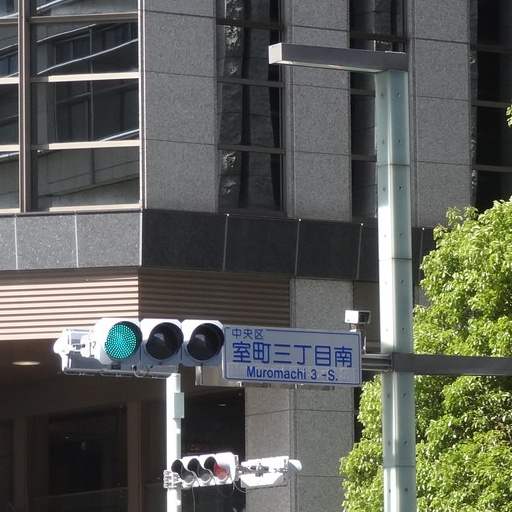Traffic_Signal_Blue: (91, 309, 222, 363)
